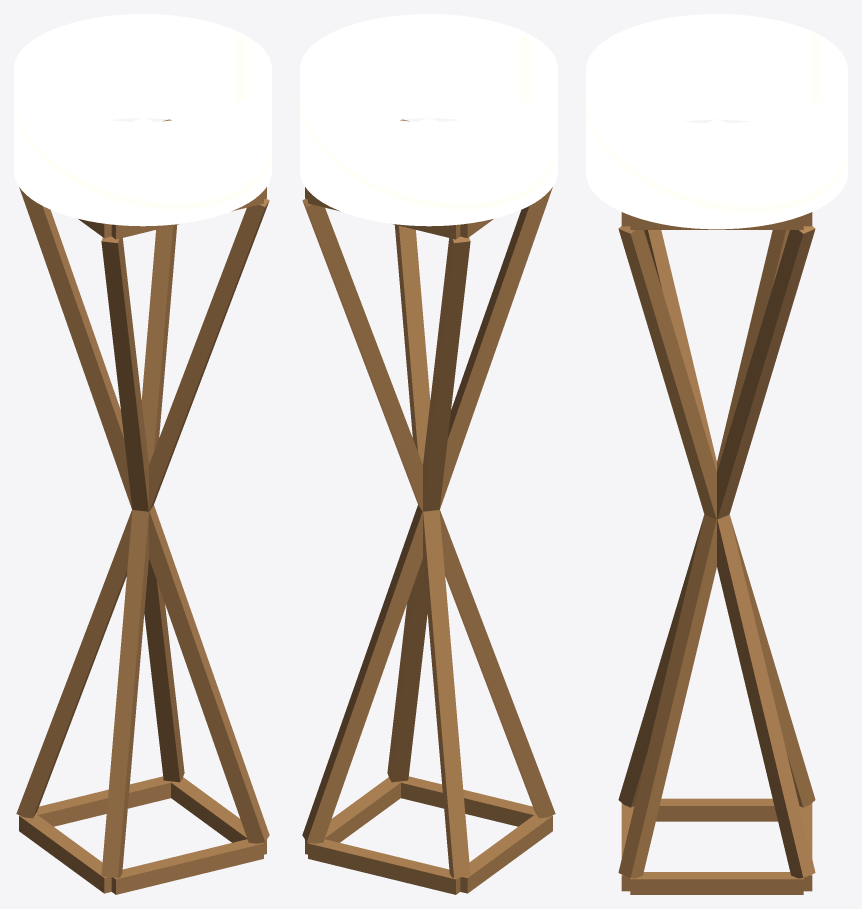
3 views of the same model, side by side, from view 1: azimuth 30°, elevation 25°; view 2: azimuth 150°, elevation 25°; view 3: azimuth 270°, elevation 25° (orthographic).
Visible parts, largest first — view 1: oz-floor-lamp-stand; view 2: oz-floor-lamp-stand; view 3: oz-floor-lamp-stand.
Boxes of the visible parts, box(x1,y1,x2,y2) form: oz-floor-lamp-stand: box(14, 14, 271, 894); oz-floor-lamp-stand: box(300, 14, 557, 894); oz-floor-lamp-stand: box(586, 14, 847, 894).
Bounding box in the file's own units: 0.453 × 1.5 × 0.453.
